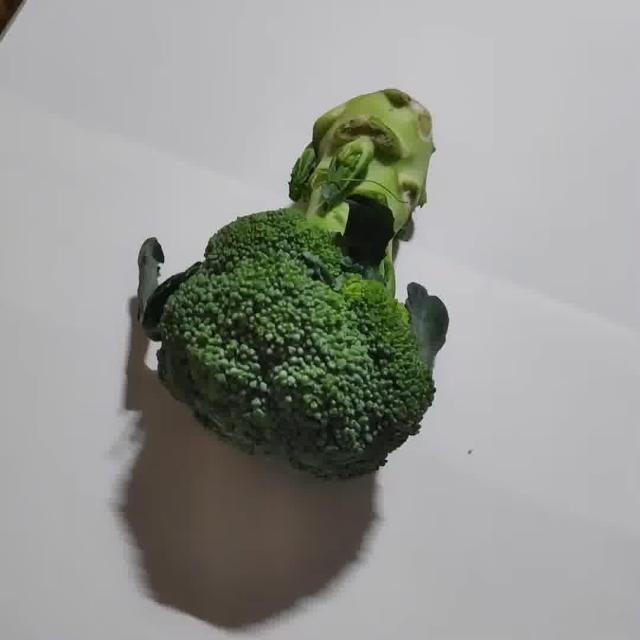Broccoli: (137, 88, 448, 479)
